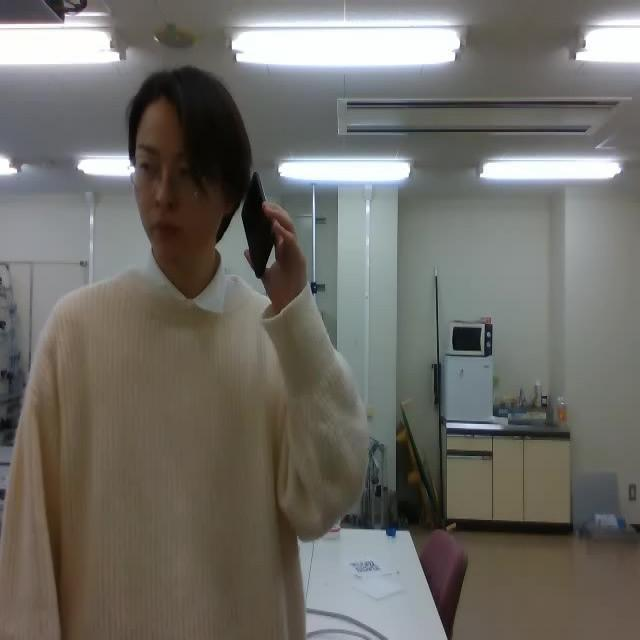Phone: (240, 170, 277, 281)
